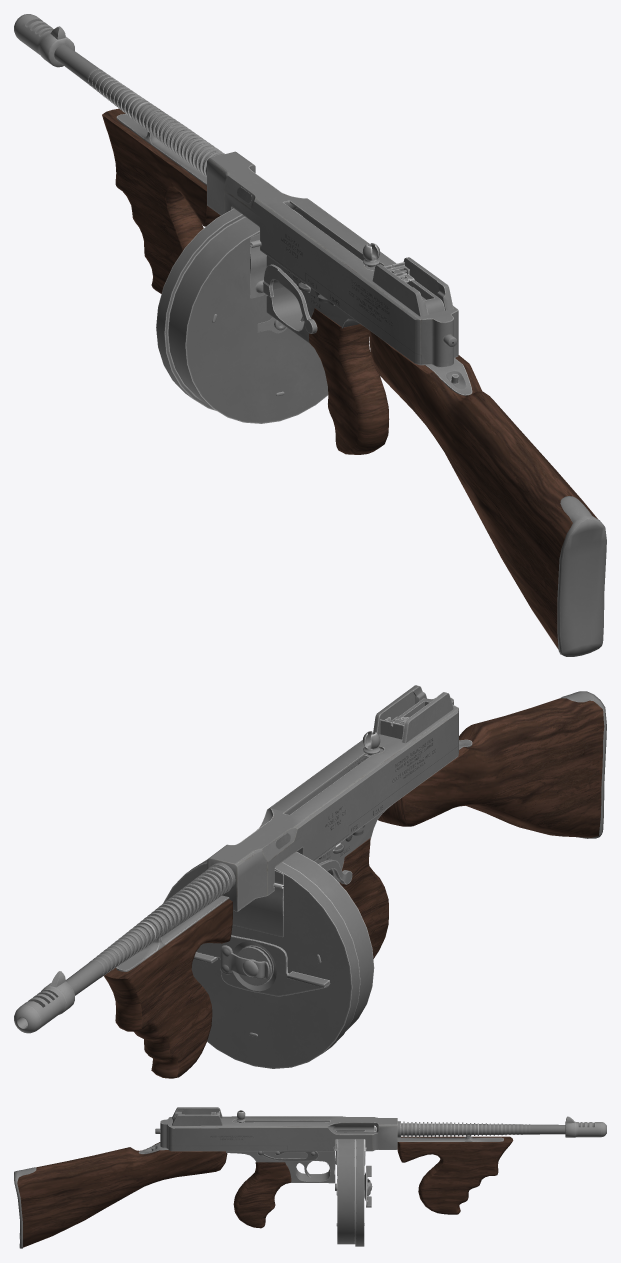
Rendered from thompson_1928_smg.glb.
3 views of the same model, one above another, from view 1: azimuth 30°, elevation 25°; view 2: azimuth 150°, elevation 25°; view 3: azimuth 270°, elevation 25° (orthographic). The views are drawn at different scales.
Parts seen in each view (by area): view 1: thompson_gun, thompson_magazine; view 2: thompson_gun, thompson_magazine; view 3: thompson_gun, thompson_magazine.
Part boxes in pixels (bbox=[...]): thompson_gun: bbox=[14, 14, 606, 656]; thompson_magazine: bbox=[156, 208, 328, 423]; thompson_gun: bbox=[14, 685, 606, 1078]; thompson_magazine: bbox=[163, 852, 374, 1068]; thompson_gun: bbox=[14, 1107, 606, 1248]; thompson_magazine: bbox=[334, 1131, 372, 1246].
Size of the model in its own units: 193 by 241 by 963.
Materials: 2 (2 with a texture image).
